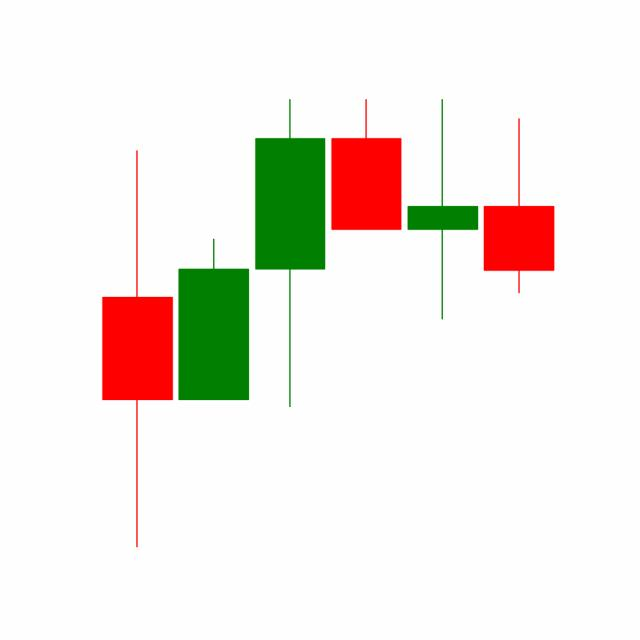Spinning Top: (403, 96, 481, 322)
